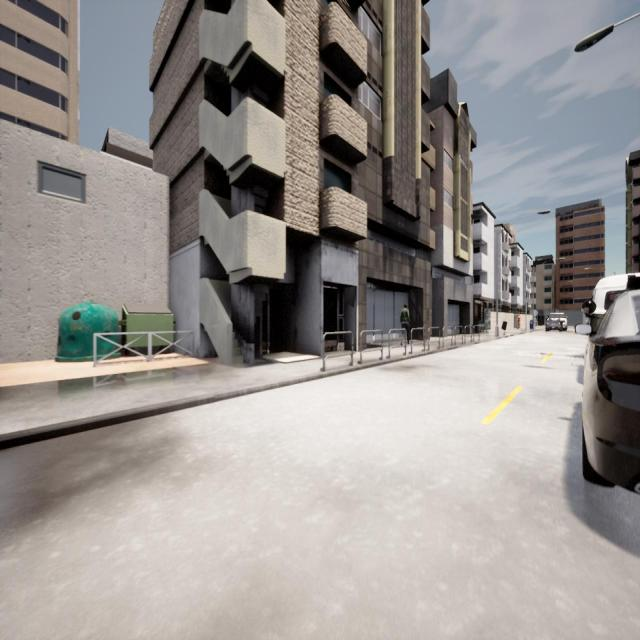Pedestrian: (400, 304, 410, 342), (517, 314, 521, 330)
Traffic_Signs: (533, 310, 538, 316)
Vehicle: (582, 291, 640, 493), (591, 274, 640, 328), (546, 313, 567, 332)
